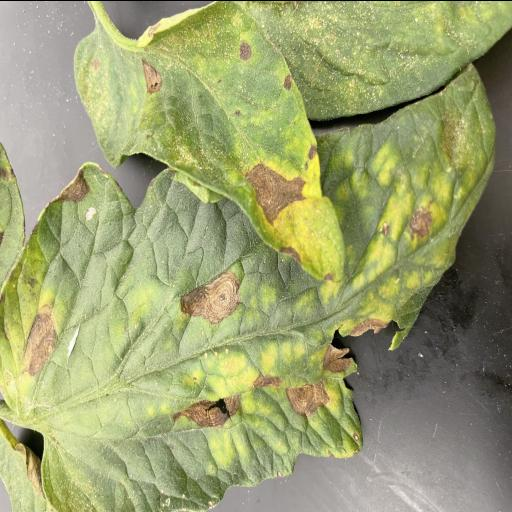Early Blight: (0, 57, 495, 512), (68, 0, 348, 284)
